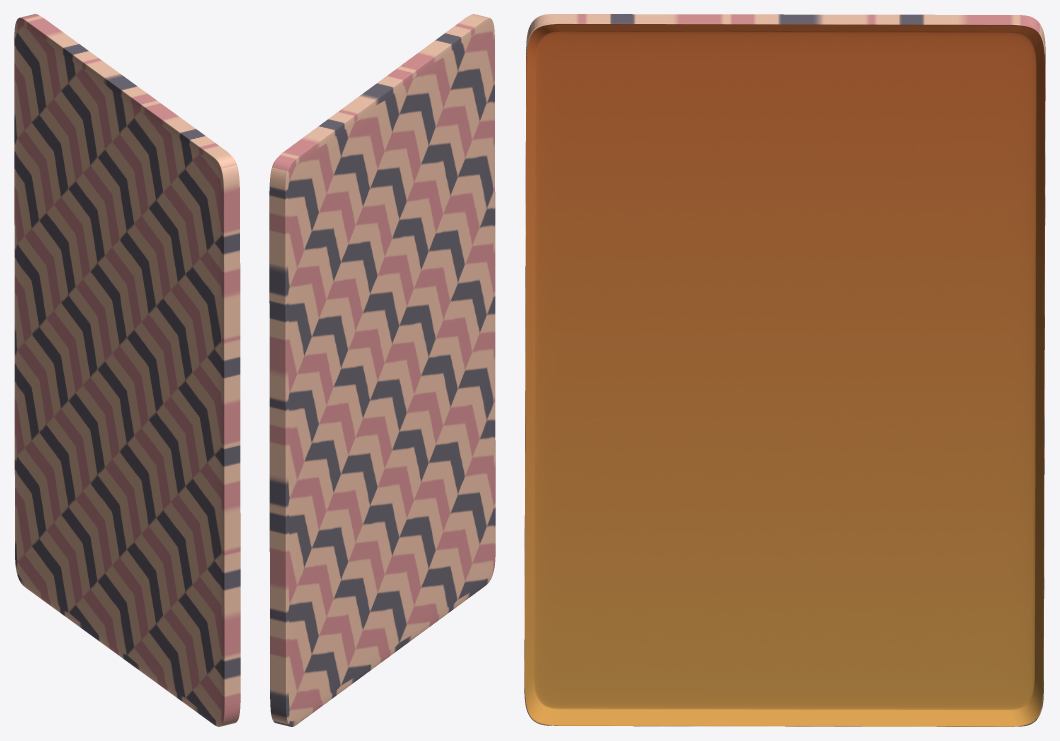
File: Card.fbx
3 views of the same model, side by side, from view 1: azimuth 30°, elevation 25°; view 2: azimuth 150°, elevation 25°; view 3: azimuth 270°, elevation 25° (orthographic). The views are drawn at different scales.
Visible parts, largest first — view 1: Card; view 2: Card; view 3: Card.
Part boxes in pixels (x1,y1,x2,y2): Card: (14,14,240,726); Card: (269,14,495,726); Card: (524,14,1045,726).
Bounding box in the file's own units: 20.12 × 649 × 436.
Materials: 1 (1 with a texture image).
